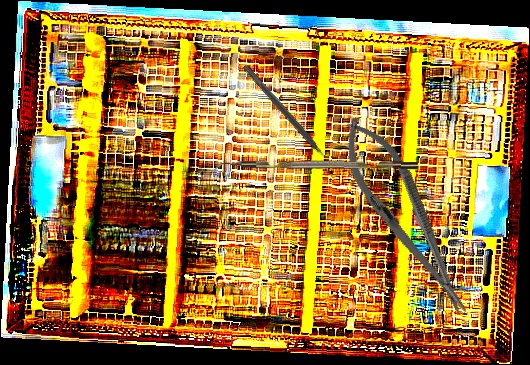Chopper: (212, 158, 419, 179)
Fixation Ring: (237, 58, 346, 177)
Needle Holder: (325, 106, 486, 328)
